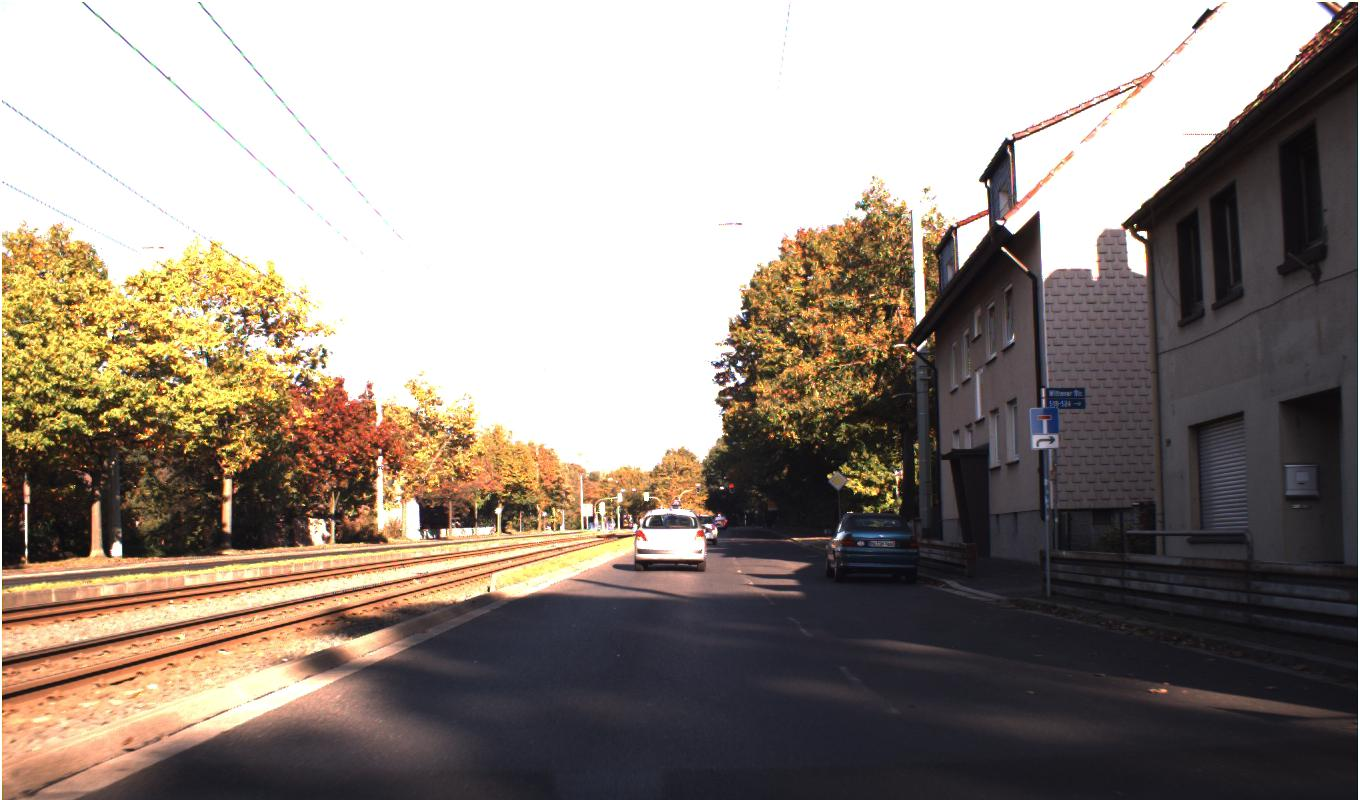sign: (826, 469, 848, 492)
